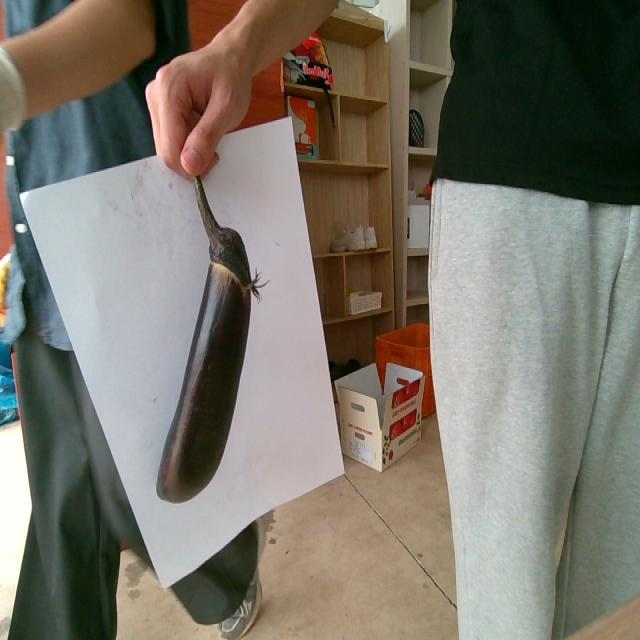Egg plant: (157, 176, 259, 501)
